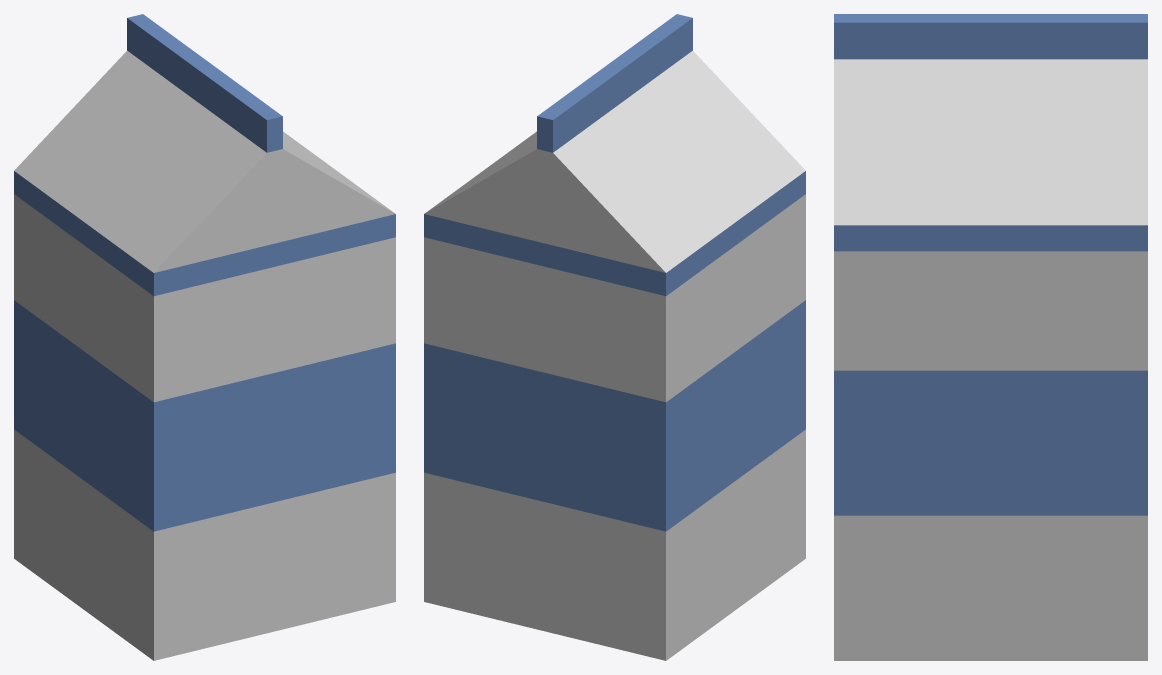
Rendered from gc_milk.glb.
The picture shows the model from 3 angles, left to right: view 1: azimuth 30°, elevation 25°; view 2: azimuth 150°, elevation 25°; view 3: azimuth 270°, elevation 25°; orthographic projection. The views are drawn at different scales.
Parts seen in each view (by area): view 1: Cube; view 2: Cube; view 3: Cube.
Boxes of the visible parts, x1=… form: Cube: x1=14, y1=14, x2=395, y2=660; Cube: x1=424, y1=14, x2=805, y2=660; Cube: x1=834, y1=14, x2=1147, y2=660.
Size of the model in its own units: 0.3896 by 0.7891 by 0.3896.
